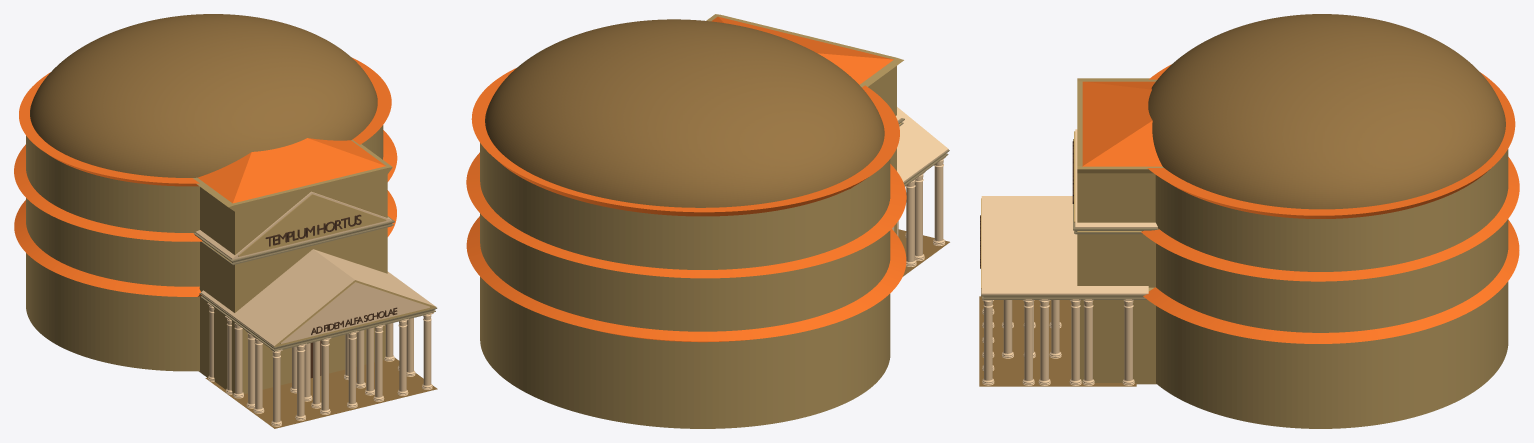
The model's file is Roman6.fbx.
3 renders of one model, left to right at view 1: azimuth 30°, elevation 25°; view 2: azimuth 150°, elevation 25°; view 3: azimuth 270°, elevation 25°, orthographic. The views are drawn at different scales.
Visible parts, largest first — view 1: Sphere, Cylinder.019, Cube.007, Cube.002, Cube.008, Plane, Cube.003, Cube.005, Cube.010, Cube.001, Cube.006, Cylinder.015 (+16 smaller); view 2: Cylinder.019, Sphere, Cube.008, Cube.002, Cube.007, Cylinder, Cylinder.009, Cylinder.010, Plane; view 3: Cylinder.019, Sphere, Cube.002, Cube, Cube.008, Cube.007, Plane, Cube.001, Cylinder.006, Cylinder.002, Cylinder.008, Cylinder.013 (+5 smaller).
Part boxes in pixels (x1,y1,x2,y2): Sphere: [30, 14, 377, 177]; Cylinder.019: [14, 57, 397, 371]; Cube.007: [193, 139, 392, 394]; Cube.002: [200, 249, 436, 347]; Cube.008: [198, 138, 385, 203]; Plane: [205, 358, 437, 428]; Cube.003: [280, 282, 429, 343]; Cube.005: [238, 194, 386, 256]; Cube.010: [193, 216, 394, 264]; Cube.001: [199, 293, 437, 351]; Cube.006: [195, 191, 391, 259]; Cylinder.015: [422, 312, 433, 389]; Cylinder.019: [466, 68, 906, 428]; Sphere: [485, 19, 884, 207]; Cube.008: [711, 16, 893, 84]; Cube.002: [897, 107, 948, 182]; Cube.007: [706, 14, 903, 234]; Cylinder: [933, 156, 946, 246]; Cylinder.009: [905, 177, 917, 266]; Cylinder.010: [914, 171, 925, 260]; Plane: [898, 229, 949, 276]; Cylinder.019: [1141, 64, 1519, 428]; Sphere: [1148, 14, 1505, 209]; Cube.002: [981, 196, 1148, 294]; Cube: [1081, 234, 1155, 383]; Cube.008: [1082, 81, 1162, 166]; Cube.007: [1077, 78, 1163, 384]; Plane: [979, 296, 1136, 386]; Cube.001: [981, 289, 1147, 299]; Cylinder.006: [1082, 299, 1094, 385]; Cylinder.002: [1069, 299, 1081, 385]; Cylinder.008: [1122, 299, 1134, 385]; Cylinder.013: [1038, 299, 1050, 385].
Size of the model in its own units: 7380 by 5370 by 8969.
